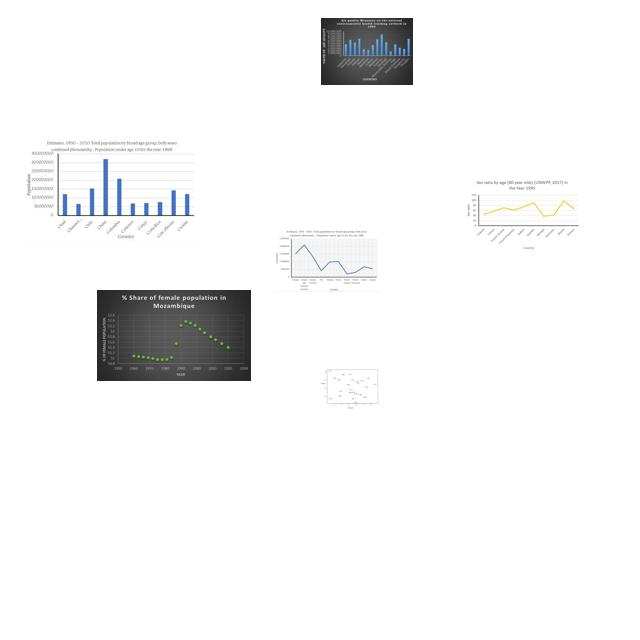Graph: (26, 139, 197, 241), (97, 290, 251, 381), (464, 178, 580, 251), (275, 229, 379, 292), (321, 18, 413, 85), (320, 367, 379, 410)
